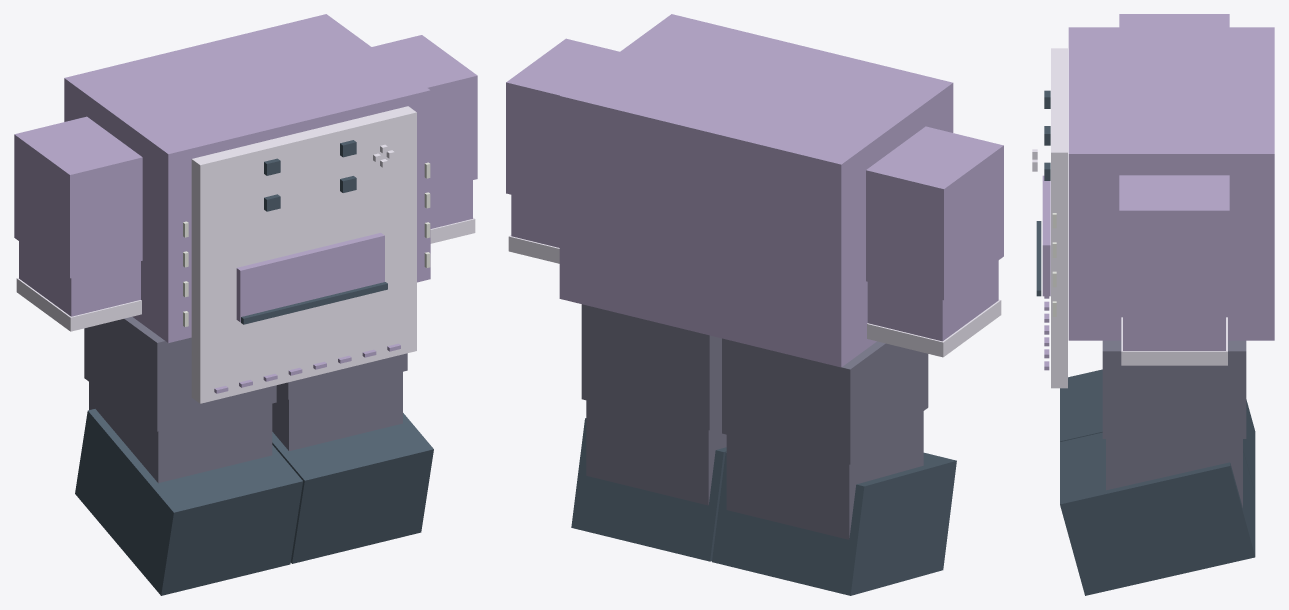
Rendered from chef-lavender.glb.
3 views of the same model, side by side, from view 1: azimuth 30°, elevation 25°; view 2: azimuth 150°, elevation 25°; view 3: azimuth 270°, elevation 25° (orthographic). The views are drawn at different scales.
Parts seen in each view (by area): view 1: apron, jacket, shoe-Right, upper-sleeve-Right, shoe-Left, trouser-Right, lower-trouser-Right, upper-sleeve-Left, apron-pocket, lower-trouser-Left, lower-sleeve-Right, trouser-Left (+4 smaller); view 2: jacket, upper-sleeve-Right, trouser-Right, shoe-Right, trouser-Left, lower-trouser-Right, lower-trouser-Left, upper-sleeve-Left, shoe-Left, lower-sleeve-Right, cuff-Right, lower-sleeve-Left (+1 smaller); view 3: jacket, shoe-Left, upper-sleeve-Left, trouser-Left, apron, lower-trouser-Left, lower-sleeve-Left, shoe-Right, cuff-Left, upper-sleeve-Right, apron-pocket, design-chef-apron-pocket-binding.
Boxes of the visible parts, <box> form: apron: <box>191,106,416,403</box>; jacket: <box>64,14,430,342</box>; shoe-Right: <box>75,409,302,595</box>; upper-sleeve-Right: <box>14,116,142,278</box>; shoe-Left: <box>272,413,433,563</box>; trouser-Right: <box>84,317,276,431</box>; lower-trouser-Right: <box>89,382,272,482</box>; upper-sleeve-Left: <box>372,35,477,190</box>; apron-pocket: <box>236,233,384,322</box>; lower-trouser-Left: <box>272,372,402,451</box>; lower-sleeve-Right: <box>19,241,140,316</box>; trouser-Left: <box>276,353,407,399</box>; jacket: <box>559,14,953,367</box>; upper-sleeve-Right: <box>866,126,1003,300</box>; trouser-Right: <box>722,338,928,464</box>; shoe-Right: <box>712,452,956,595</box>; trouser-Left: <box>581,304,721,430</box>; lower-trouser-Right: <box>726,411,923,539</box>; lower-trouser-Left: <box>586,400,726,505</box>; upper-sleeve-Left: <box>506,38,619,206</box>; shoe-Left: <box>571,418,726,561</box>; lower-sleeve-Right: <box>867,260,998,341</box>; cuff-Right: <box>867,299,1001,357</box>; lower-sleeve-Left: <box>511,195,559,247</box>; jacket: <box>1068,27,1274,340</box>; shoe-Left: <box>1060,432,1255,595</box>; upper-sleeve-Left: <box>1119,175,1229,312</box>; trouser-Left: <box>1102,340,1246,438</box>; apron: <box>1051,48,1067,388</box>; lower-trouser-Left: <box>1106,439,1242,507</box>; lower-sleeve-Left: <box>1123,312,1225,350</box>; shoe-Right: <box>1060,369,1255,493</box>; cuff-Left: <box>1121,317,1227,365</box>; upper-sleeve-Right: <box>1119,14,1229,27</box>; apron-pocket: <box>1042,175,1050,296</box>; design-chef-apron-pocket-binding: <box>1036,221,1041,296</box>.
Size of the model in its own units: 1.07 by 1.13 by 0.559.
